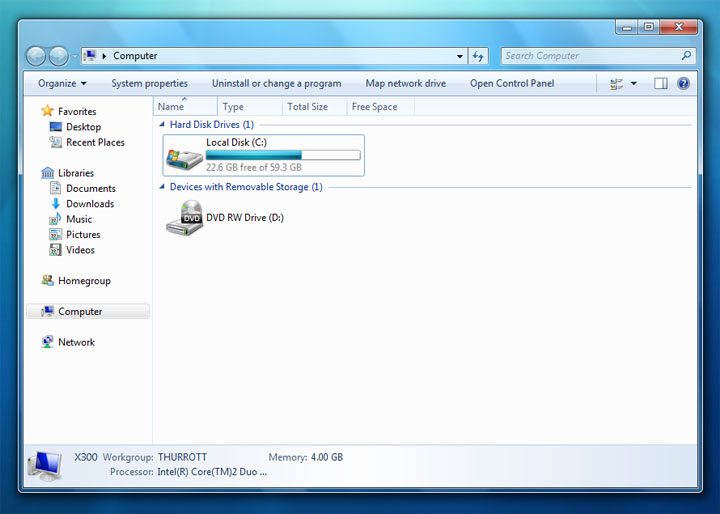close: (658, 17, 699, 36)
